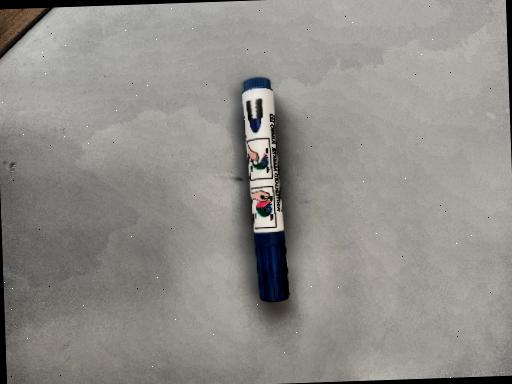marcador azul: (242, 77, 289, 301)
